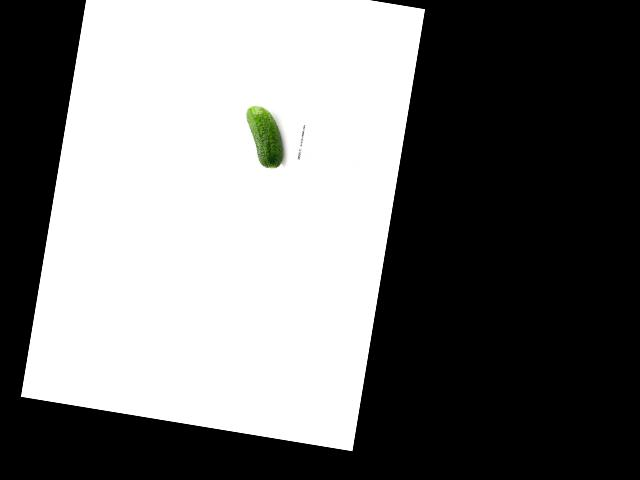cucumber: (238, 104, 290, 170)
